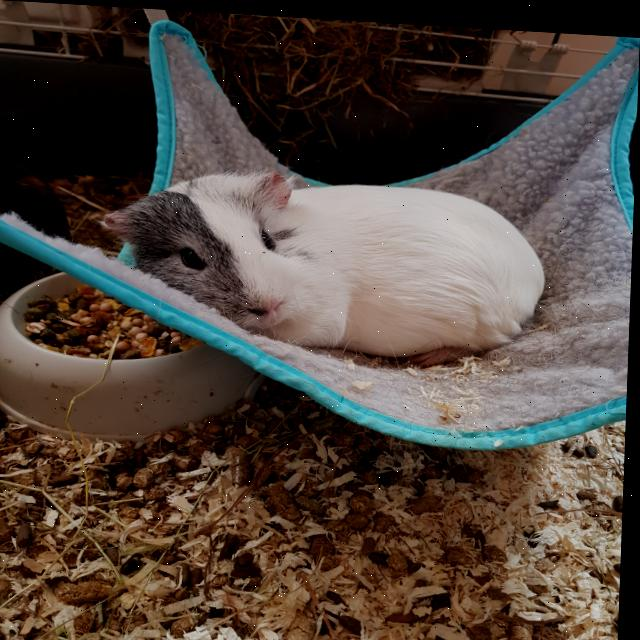guinea pig: (96, 151, 554, 375)
